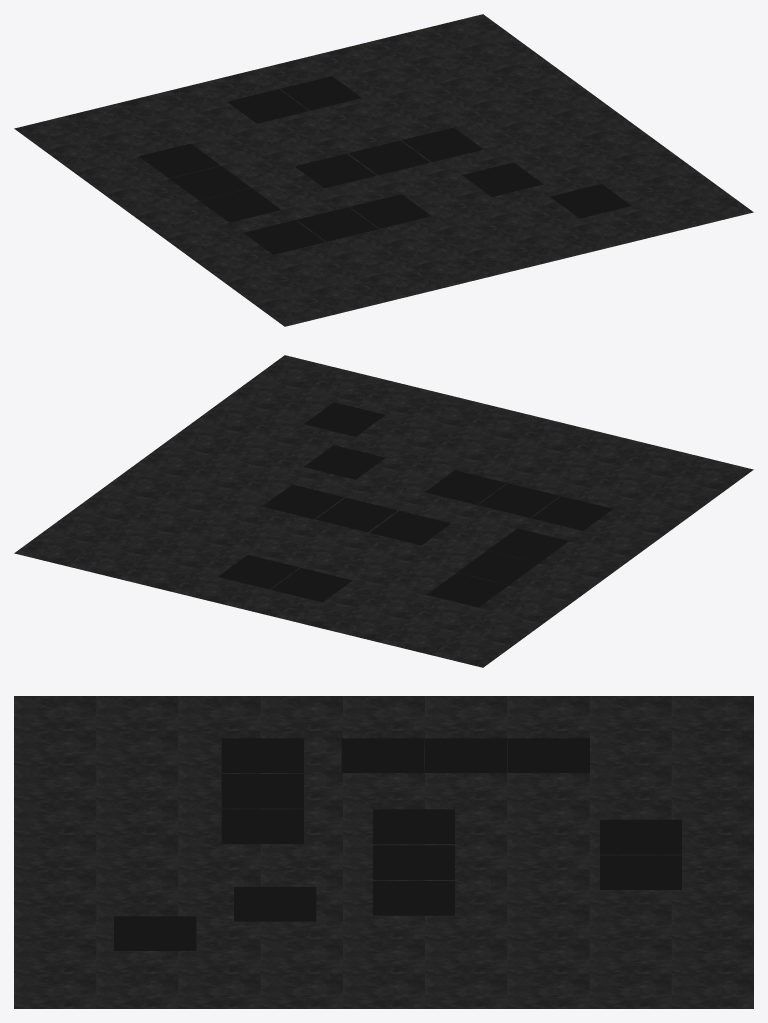
File: Section 3 just floor.fbx
The picture shows the model from 3 angles, top to bottom: view 1: azimuth 30°, elevation 25°; view 2: azimuth 150°, elevation 25°; view 3: azimuth 270°, elevation 25°; orthographic projection. The views are drawn at different scales.
Visible parts, largest first — view 1: Section_3_Floor; view 2: Section_3_Floor; view 3: Section_3_Floor.
Part boxes in pixels (box(x1,y1,x2,y2)): Section_3_Floor: box(14, 14, 753, 326); Section_3_Floor: box(14, 355, 753, 667); Section_3_Floor: box(14, 696, 753, 1008).
Bounding box in the file's own units: 900 × 1.03 × 900.
